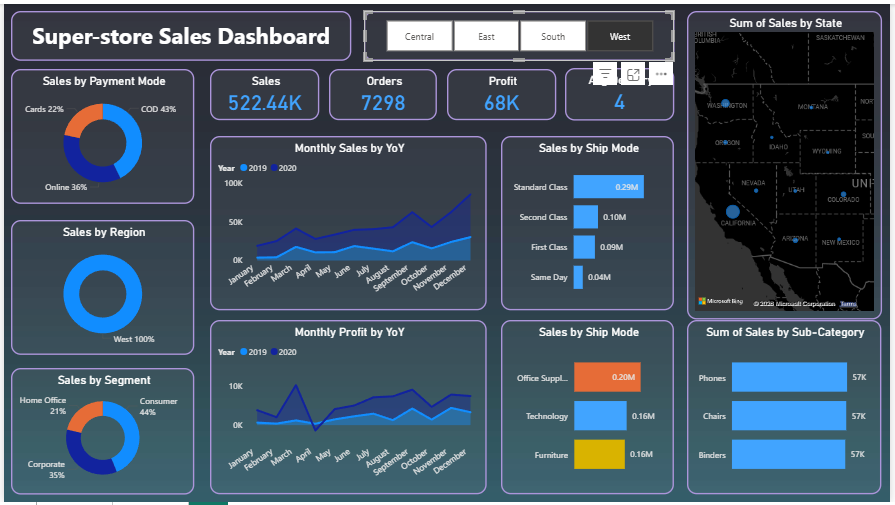

The page's visual inventory and layout, read from the dashboard file:
{"tool":"powerbi","page":{"name":"Page 1","canvas":[1280,720],"ordinal":0},"visuals":[{"type":"textbox","box":[10.1,10.1,492.2,72.2],"z":0},{"type":"donutChart","title":"Sales by Payment Mode","fields":{"Category":["SuperStore_Sales_Dataset.Payment Mode"],"Y":["Sum(SuperStore_Sales_Dataset.Sales)"]},"box":[10.1,94.1,265.4,194.9],"z":1000},{"type":"donutChart","title":"Sales by Region","fields":{"Category":["SuperStore_Sales_Dataset.Region"],"Y":["Sum(SuperStore_Sales_Dataset.Sales)"]},"box":[10.1,312.4,265.4,194.9],"z":2000},{"type":"donutChart","title":"Sales by Segment","fields":{"Y":["Sum(SuperStore_Sales_Dataset.Sales)"],"Category":["SuperStore_Sales_Dataset.Segment"]},"box":[10.1,525.8,265.4,183.1],"z":3000},{"type":"slicer","fields":{"Values":["SuperStore_Sales_Dataset.Region"]},"box":[520.7,10.1,448.5,72.2],"z":4000},{"type":"card","title":"Sales","fields":{"Values":["Sum(SuperStore_Sales_Dataset.Sales)"]},"box":[297.3,94.1,157.9,73.9],"z":5000},{"type":"card","title":"Profit","fields":{"Values":["Sum(SuperStore_Sales_Dataset.Profit)"]},"box":[640,94.1,157.9,73.9],"z":6000},{"type":"card","title":"Orders","fields":{"Values":["Sum(SuperStore_Sales_Dataset.Quantity)"]},"box":[470.3,94.1,156.2,73.9],"z":7000},{"type":"card","title":"Avg Delivery","fields":{"Values":["Avg(SuperStore_Sales_Dataset.AvgDelivery)"]},"box":[811.3,92.4,157.9,75.6],"z":8000},{"type":"stackedAreaChart","title":"Monthly Sales by YoY","fields":{"Category":["SuperStore_Sales_Dataset.Order Date.Variation.Date Hierarchy.Month"],"Y":["Sum(SuperStore_Sales_Dataset.Sales)"],"Series":["SuperStore_Sales_Dataset.Order Date.Variation.Date Hierarchy.Year"]},"box":[297.3,191.5,399.8,252],"z":9000},{"type":"stackedAreaChart","title":"Monthly Profit by YoY","fields":{"Category":["SuperStore_Sales_Dataset.Order Date.Variation.Date Hierarchy.Month"],"Y":["Sum(SuperStore_Sales_Dataset.Profit)"],"Series":["SuperStore_Sales_Dataset.Order Date.Variation.Date Hierarchy.Year"]},"box":[297.3,456.9,399.8,252],"z":10000},{"type":"clusteredBarChart","title":"Sales by Ship Mode","fields":{"Y":["Sum(SuperStore_Sales_Dataset.Sales)"],"Category":["SuperStore_Sales_Dataset.Ship Mode"]},"box":[719,191.5,250.3,252],"z":11000},{"type":"clusteredBarChart","title":"Sales by Ship Mode","fields":{"Y":["Sum(SuperStore_Sales_Dataset.Sales)"],"Category":["SuperStore_Sales_Dataset.Category"]},"box":[719,456.9,250.3,252],"z":12000},{"type":"clusteredBarChart","fields":{"Y":["Sum(SuperStore_Sales_Dataset.Sales)"],"Category":["SuperStore_Sales_Dataset.Sub-Category"]},"box":[987.7,456.9,280.5,252],"z":13000},{"type":"map","fields":{"Category":["SuperStore_Sales_Dataset.State"],"Size":["Sum(SuperStore_Sales_Dataset.Sales)"]},"box":[987.5,10.1,281.9,446],"z":14000}]}

Visuals, with their boxes in screenshot pixels (x1, y1, x2, y2), scaled from the page's 1280x720 canvas onto the 895x505 screenshot:
textbox: [7, 7, 351, 58]
"Sales by Payment Mode" donutChart: [7, 66, 193, 203]
"Sales by Region" donutChart: [7, 219, 193, 356]
"Sales by Segment" donutChart: [7, 369, 193, 497]
slicer - SuperStore_Sales_Dataset.Region: [364, 7, 678, 58]
"Sales" card: [208, 66, 318, 118]
"Profit" card: [448, 66, 558, 118]
"Orders" card: [329, 66, 438, 118]
"Avg Delivery" card: [567, 65, 678, 118]
"Monthly Sales by YoY" stackedAreaChart: [208, 134, 487, 311]
"Monthly Profit by YoY" stackedAreaChart: [208, 320, 487, 497]
"Sales by Ship Mode" clusteredBarChart: [503, 134, 678, 311]
"Sales by Ship Mode" clusteredBarChart: [503, 320, 678, 497]
clusteredBarChart - Sum(SuperStore_Sales_Dataset.Sales) x SuperStore_Sales_Dataset.Sub-Category: [691, 320, 887, 497]
map - SuperStore_Sales_Dataset.State x Sum(SuperStore_Sales_Dataset.Sales): [690, 7, 888, 320]
